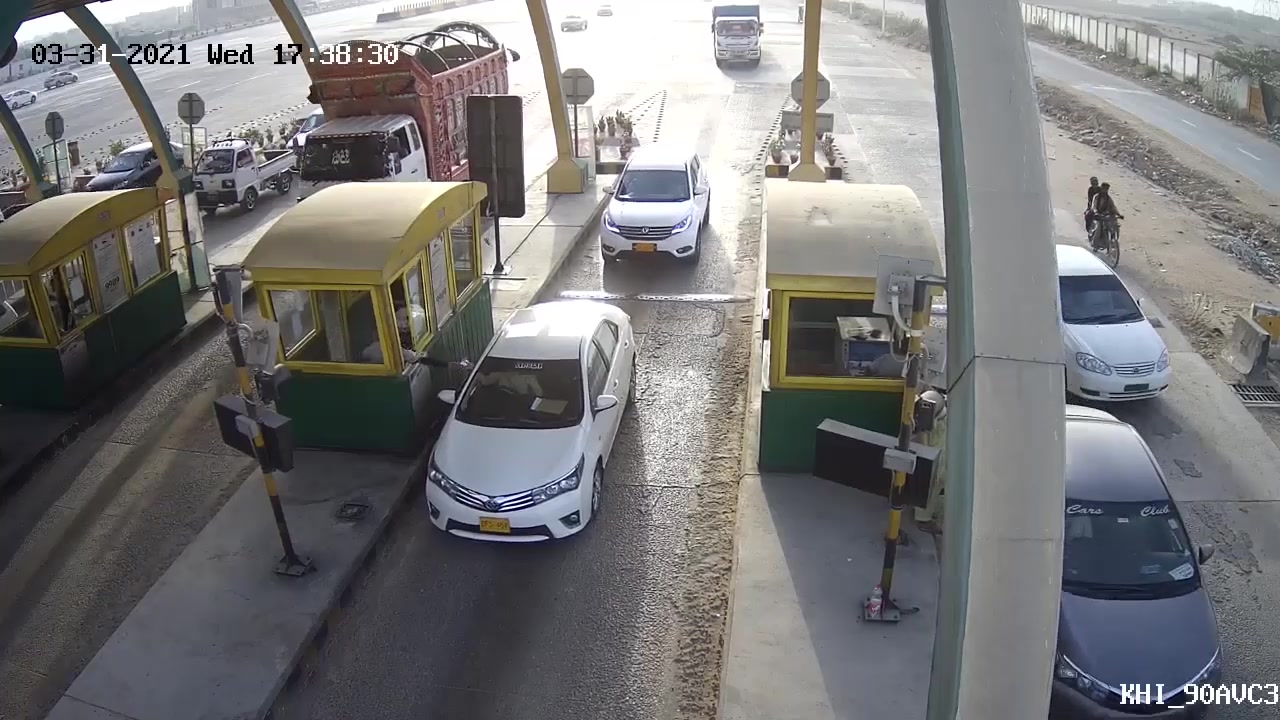F1: (595, 151, 712, 295)
